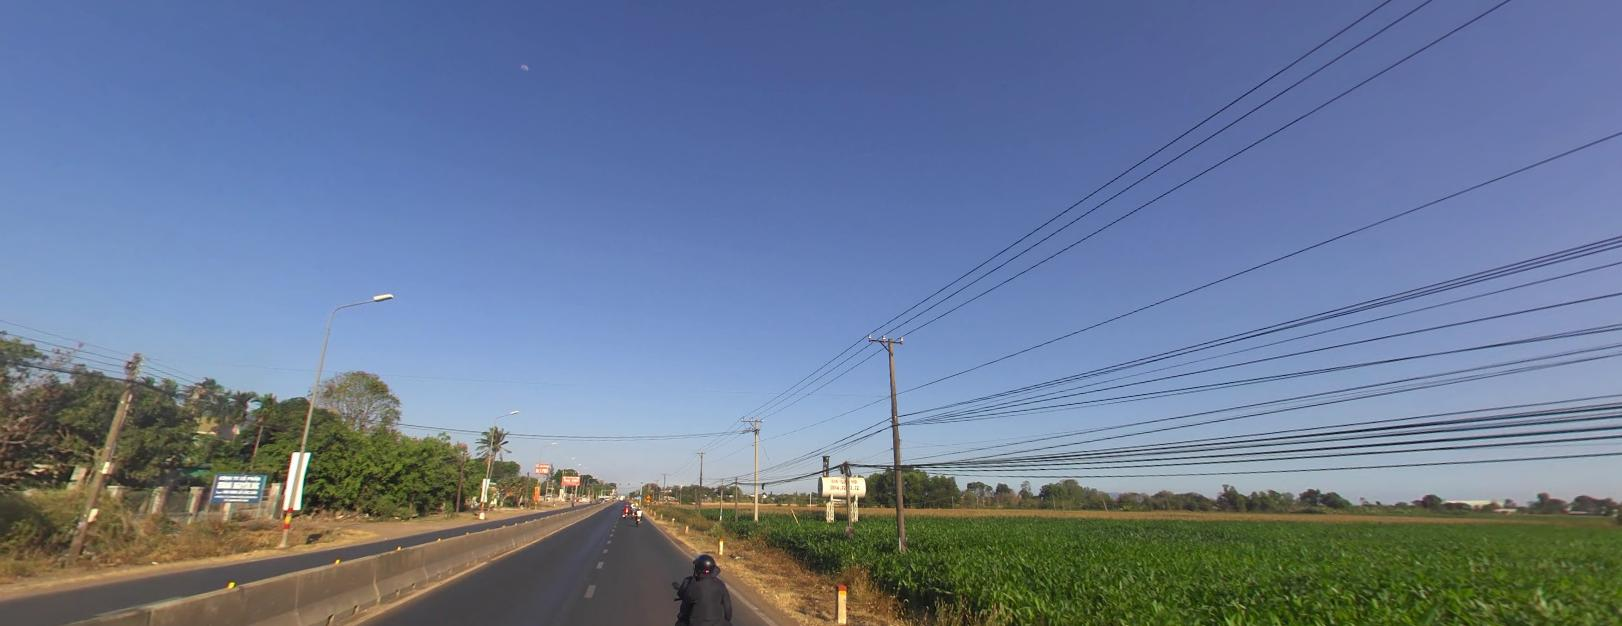Nguy hiem: (645, 497, 651, 501), (645, 493, 650, 497)
